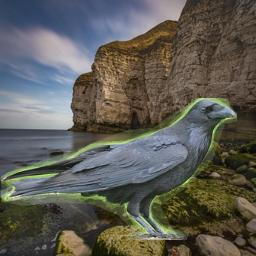Crow: (1, 98, 237, 240)
